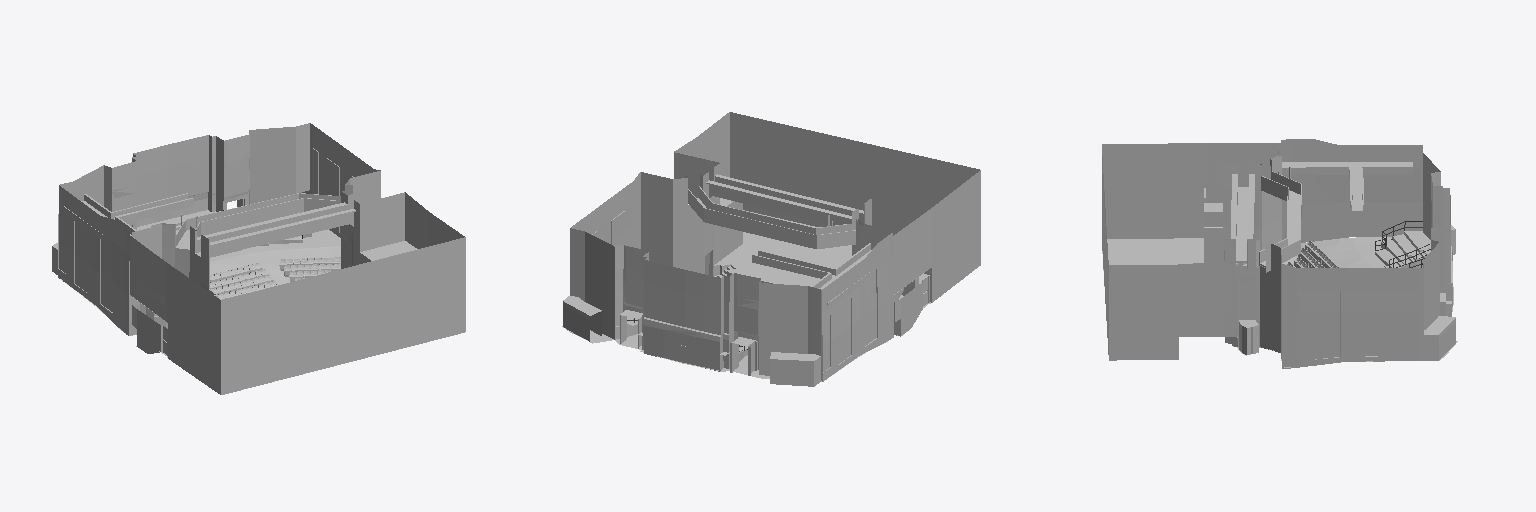
File: cenarioFinal.obj
The picture shows the model from 3 angles: view 1: azimuth 30°, elevation 25°; view 2: azimuth 150°, elevation 25°; view 3: azimuth 270°, elevation 25°; orthographic projection.
Parts seen in each view (by area): view 1: Paredes, Chao1; view 2: Paredes, Palco, Chao1; view 3: Paredes, Palco, Chao1, Escada1.
Boxes of the visible parts, box(x1,y1,x2,y2) form: Paredes: box(52, 123, 465, 394); Chao1: box(61, 229, 340, 356); Paredes: box(563, 112, 980, 386); Palco: box(714, 210, 972, 303); Chao1: box(562, 276, 927, 381); Paredes: box(1102, 139, 1455, 368); Palco: box(1102, 238, 1236, 286); Chao1: box(1233, 237, 1457, 367); Escada1: box(1375, 231, 1430, 267).
Size of the model in its own units: 21.6 by 9 by 26.25.